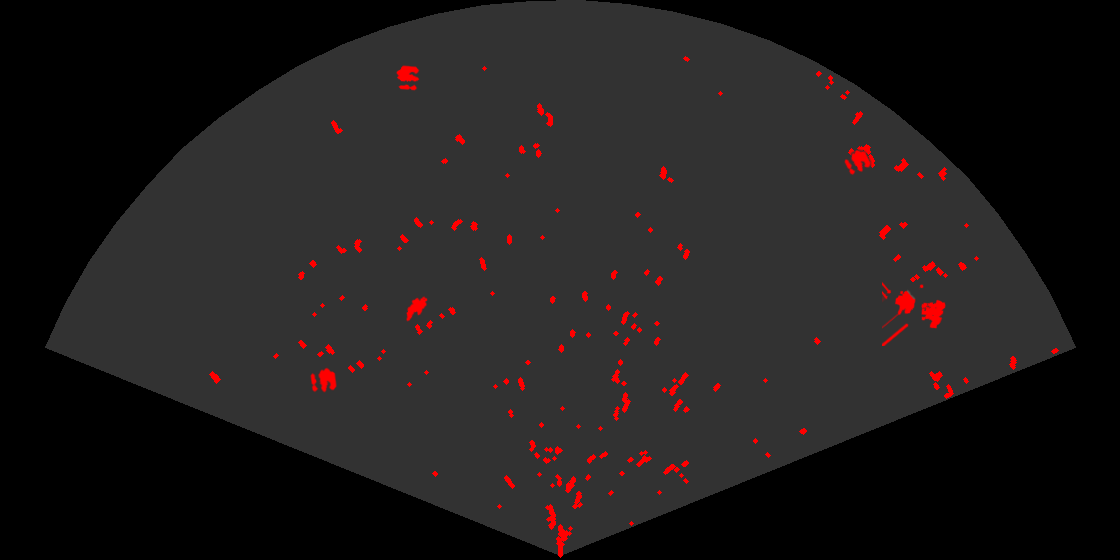AUV: (405, 295, 429, 323)
ball: (843, 148, 872, 177), (309, 366, 338, 394), (395, 64, 421, 92)
cage: (882, 280, 947, 346)
